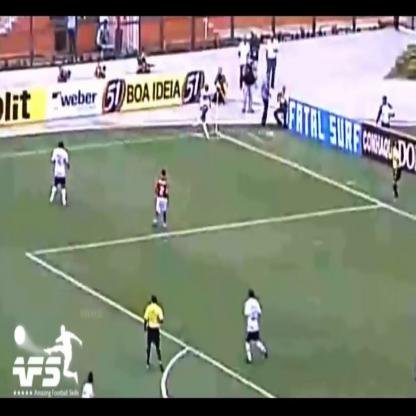corner kick: (185, 40, 246, 174)
